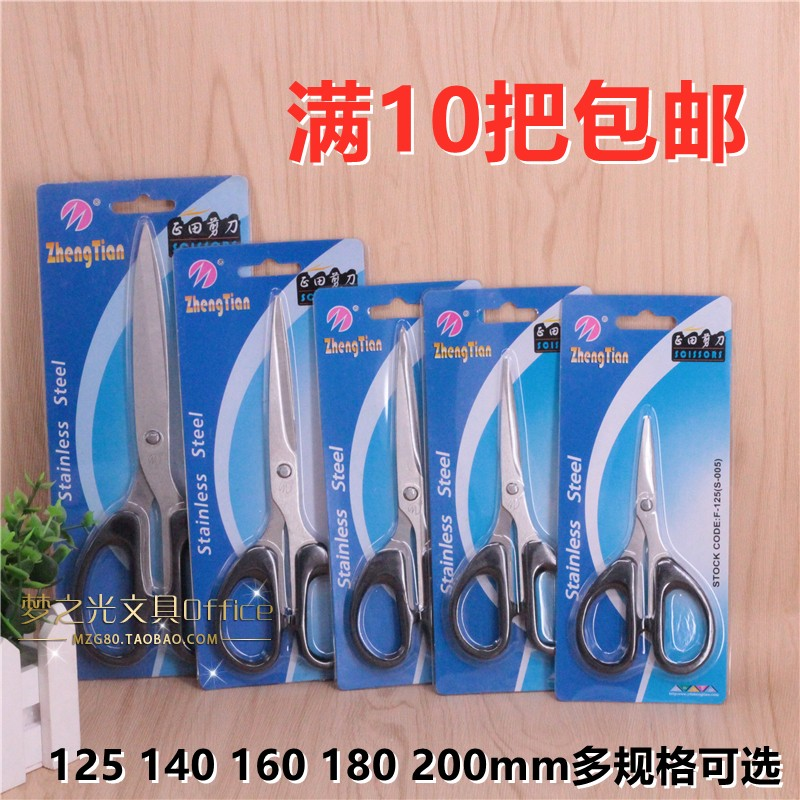scissors: (76, 221, 203, 671), (207, 287, 344, 674), (577, 400, 720, 693), (449, 340, 562, 667), (353, 314, 448, 671)
